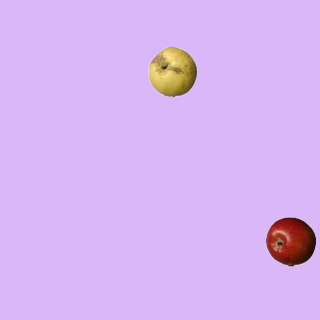Apple Braeburn: (265, 216, 315, 266)
Apple Golden 1: (147, 46, 197, 96)
